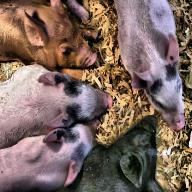boar: (0, 0, 166, 192), (114, 0, 187, 132)
